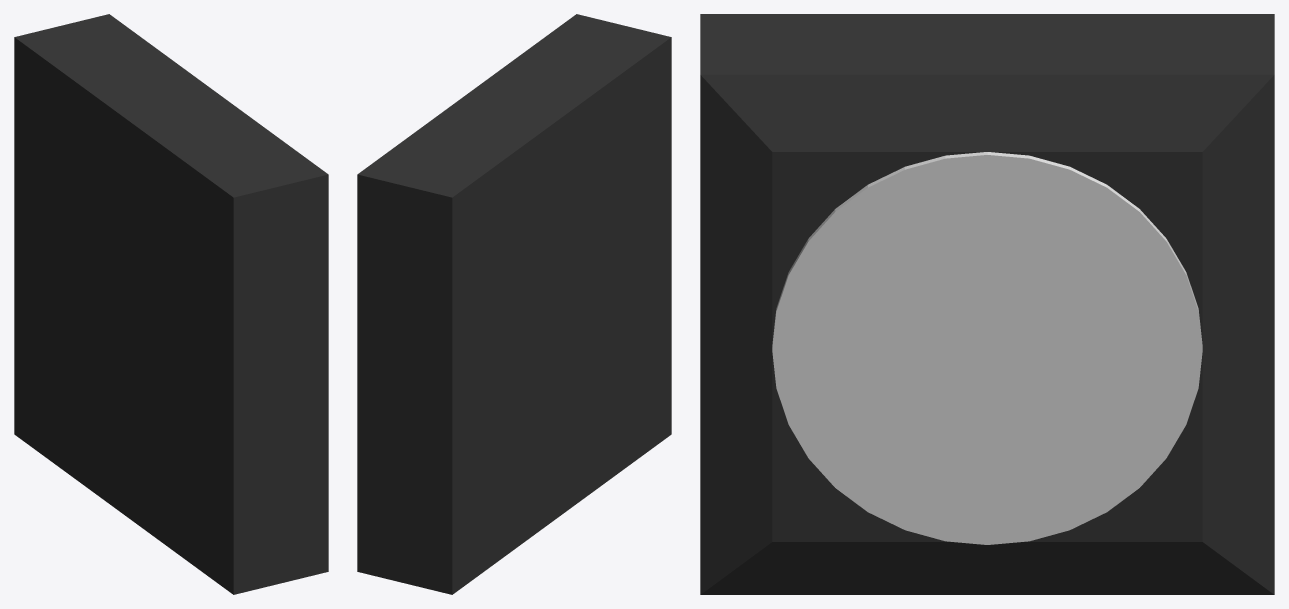
Rendered from trn_projectileBtn_pose0.fbx.
The picture shows the model from 3 angles, left to right: view 1: azimuth 30°, elevation 25°; view 2: azimuth 150°, elevation 25°; view 3: azimuth 270°, elevation 25°; orthographic projection. The views are drawn at different scales.
Visible parts, largest first — view 1: Cylinder; view 2: Cylinder; view 3: Cylinder.
Part boxes in pixels (x1,y1,x2,y2): Cylinder: (14, 14, 328, 594); Cylinder: (357, 14, 671, 594); Cylinder: (700, 14, 1274, 594).
Size of the model in its own units: 125 by 400 by 400.
